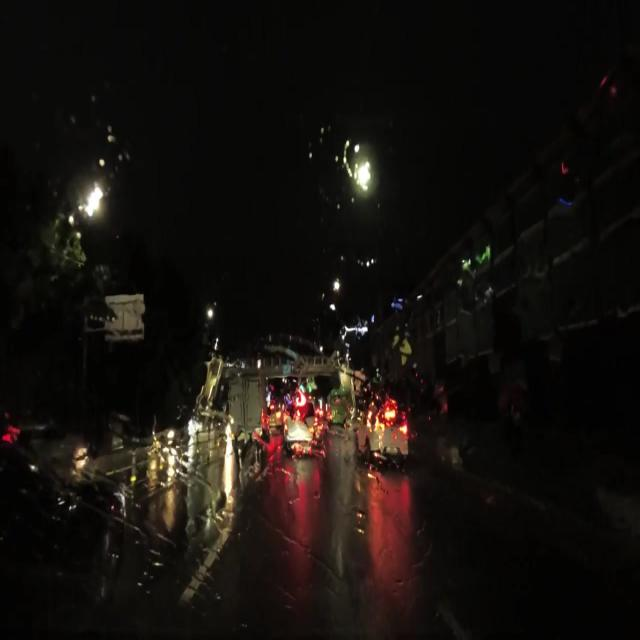Car: (354, 404, 407, 455), (283, 396, 320, 452), (264, 400, 279, 427)
